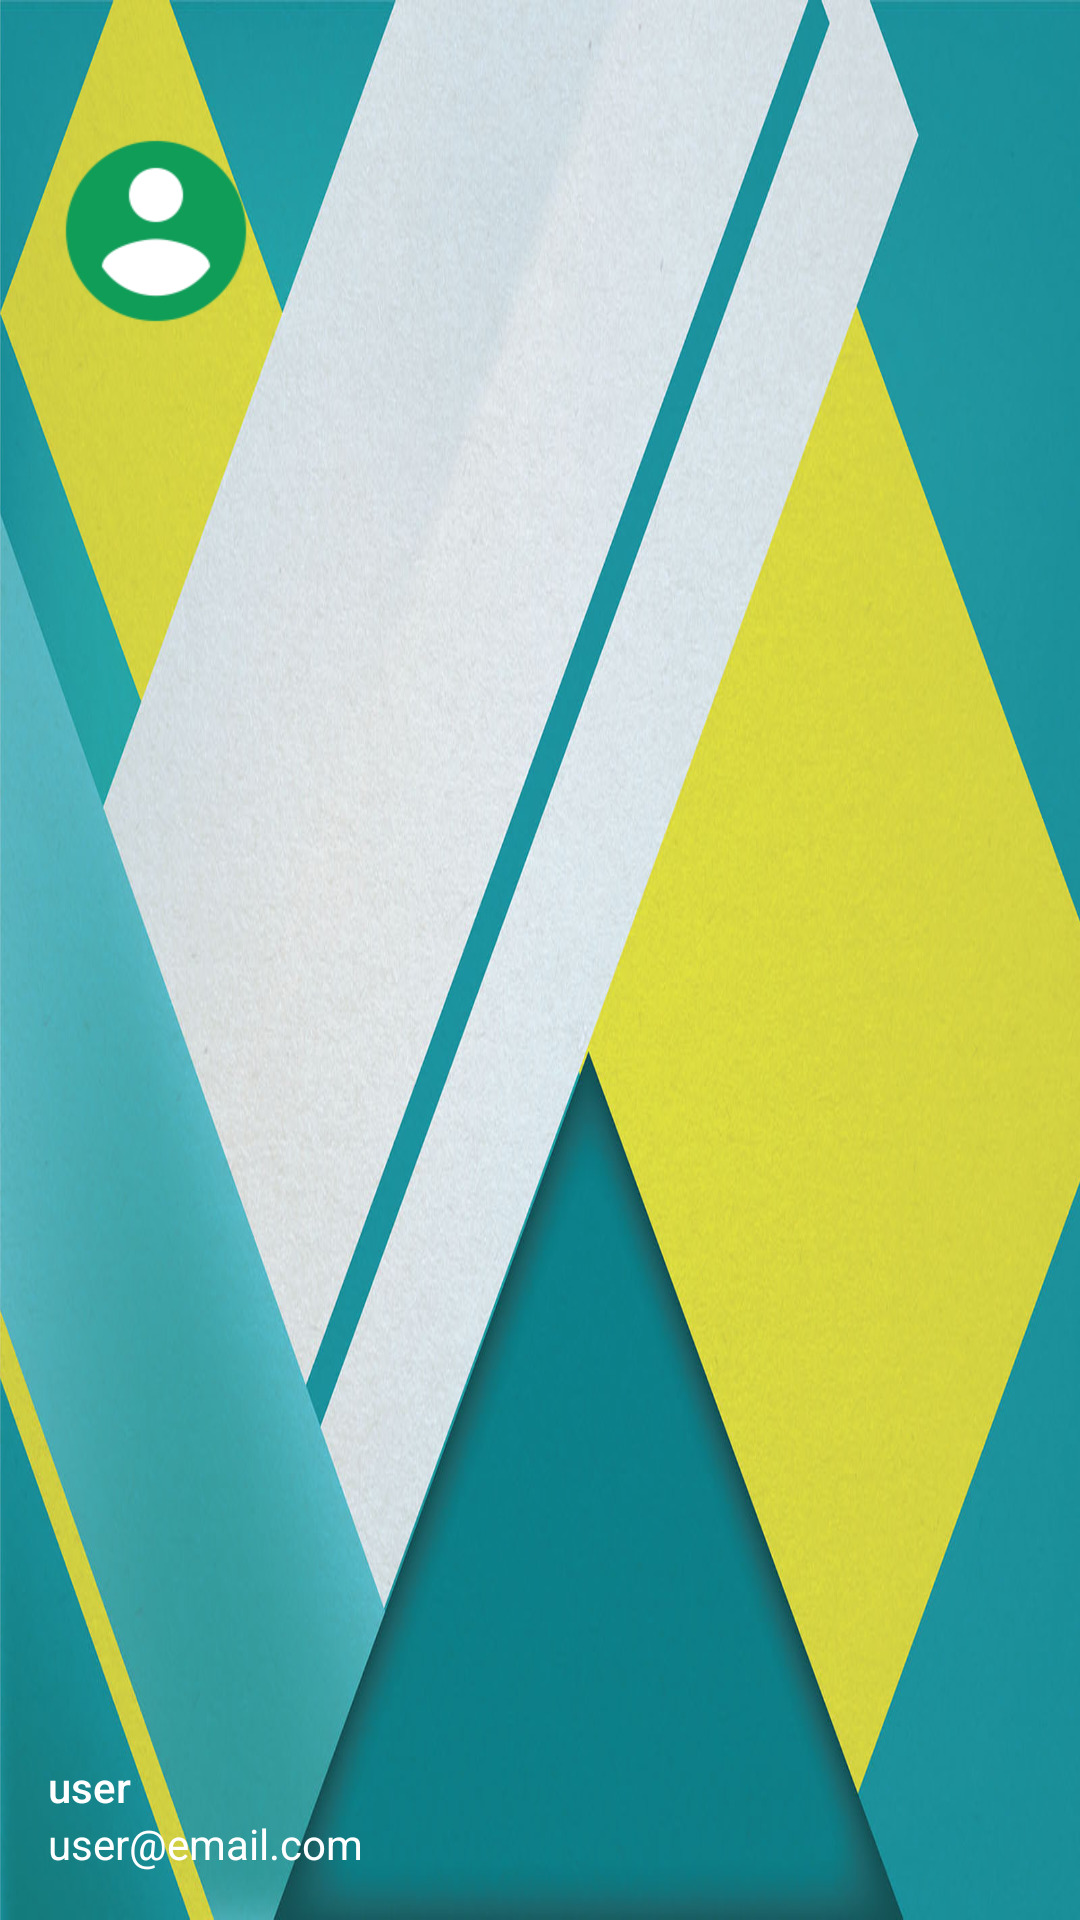

Screen size 1080w x 1920h. Icon name, then its center in pixels as (x,y):
account circle: (156,222)
